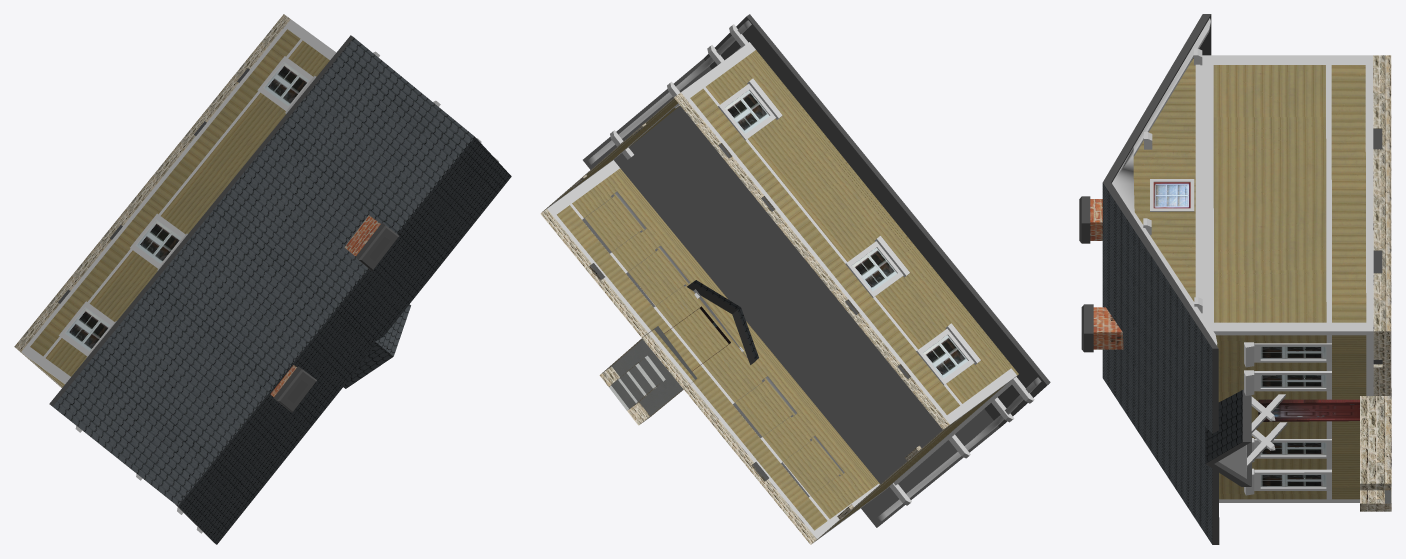
The model's file is Suurtyki_8.obj.
3 renders of one model, left to right at view 1: azimuth 30°, elevation 25°; view 2: azimuth 150°, elevation 25°; view 3: azimuth 270°, elevation 25°, orthographic. The views are drawn at different scales.
Parts seen in each view (by area): view 1: object; view 2: object; view 3: object.
Boxes of the visible parts, x1=… form: object: x1=14, y1=14, x2=511, y2=544; object: x1=540, y1=14, x2=1050, y2=544; object: x1=1079, y1=14, x2=1391, y2=544.
Size of the model in its own units: 17.58 by 17.34 by 7.98.
